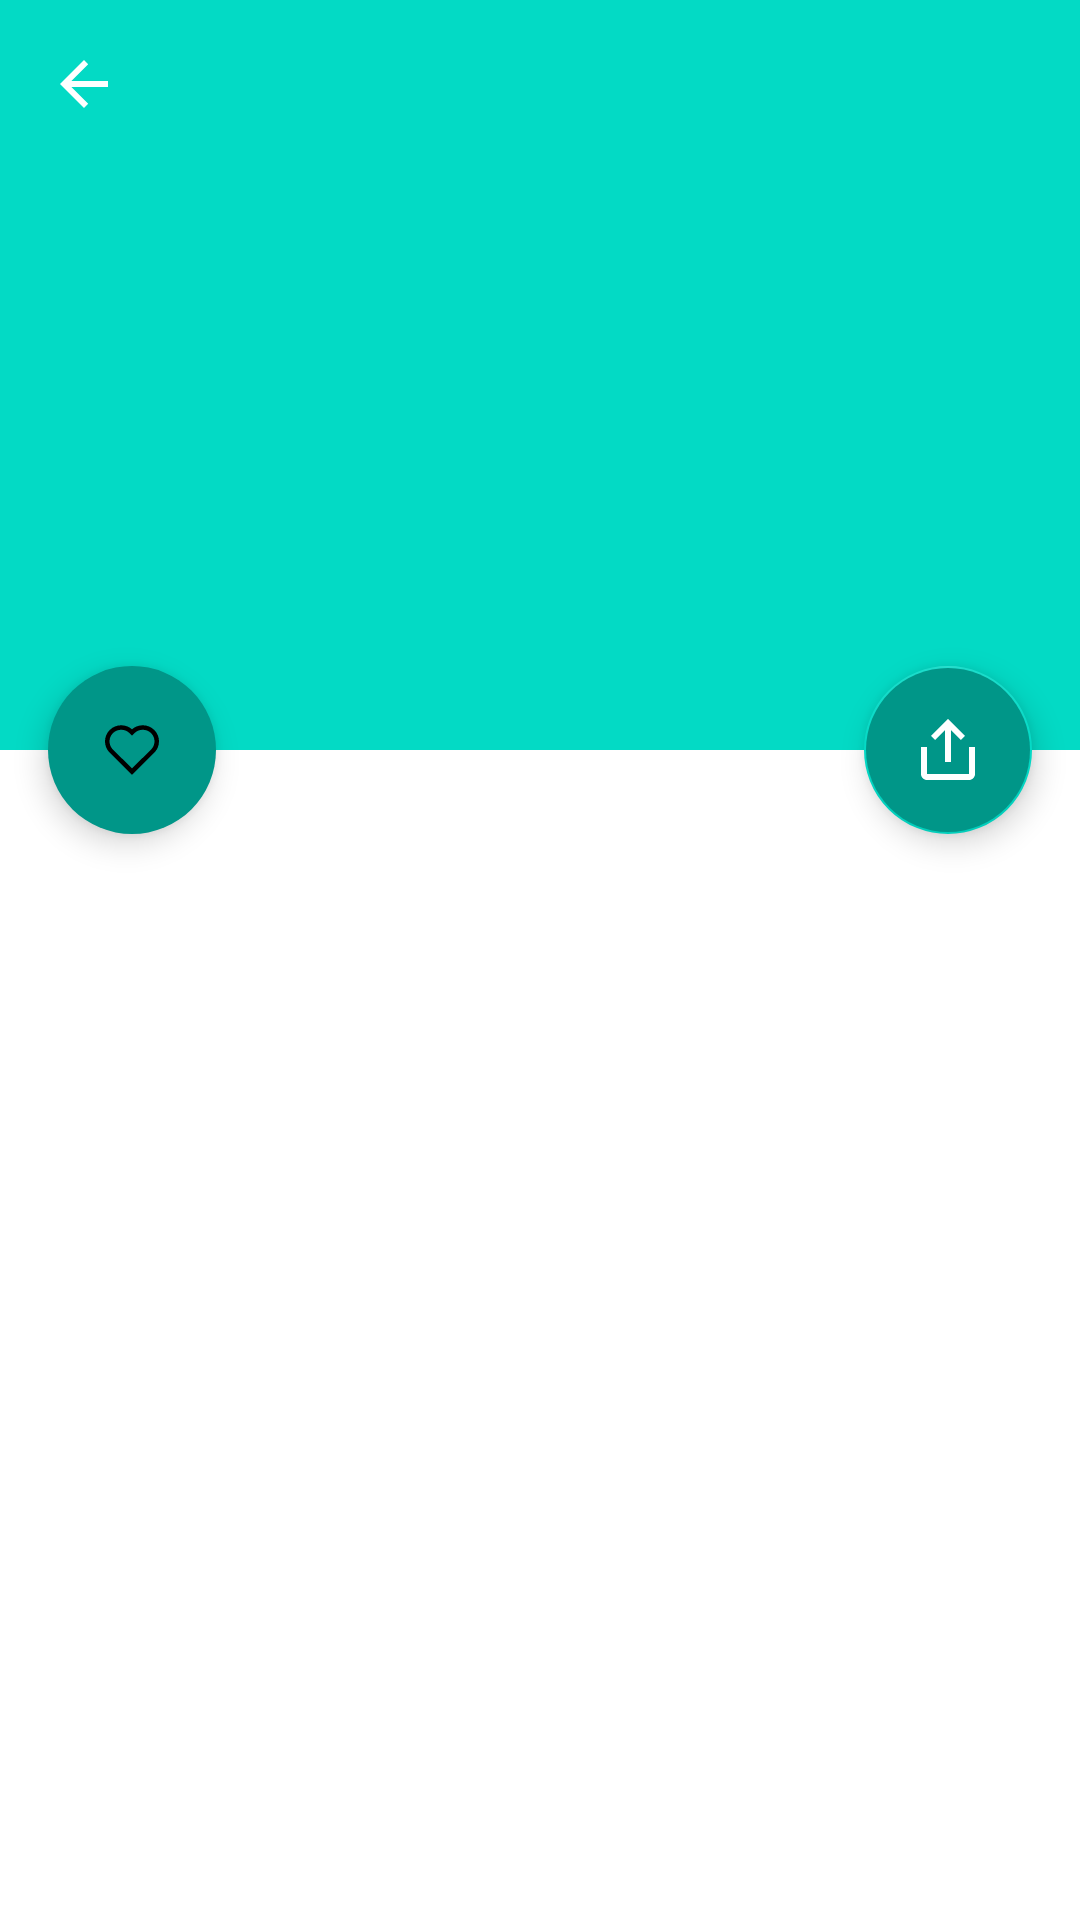

Icon click points for this 1080w x 1920h phone screenshot, format point (x, y):
Favorites: point (132, 750)
Share: point (948, 750)
